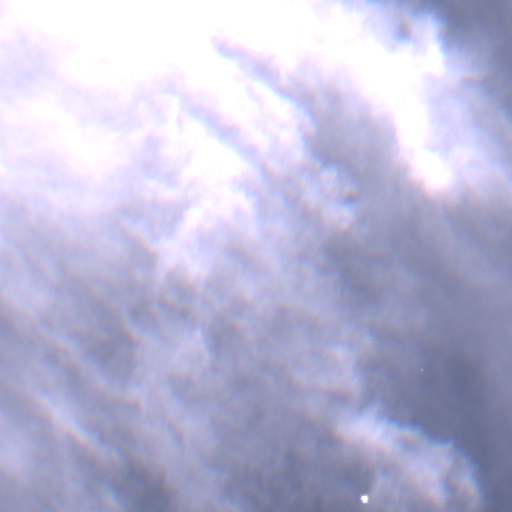Iceberg: (361, 495, 368, 502), (421, 369, 422, 370)
